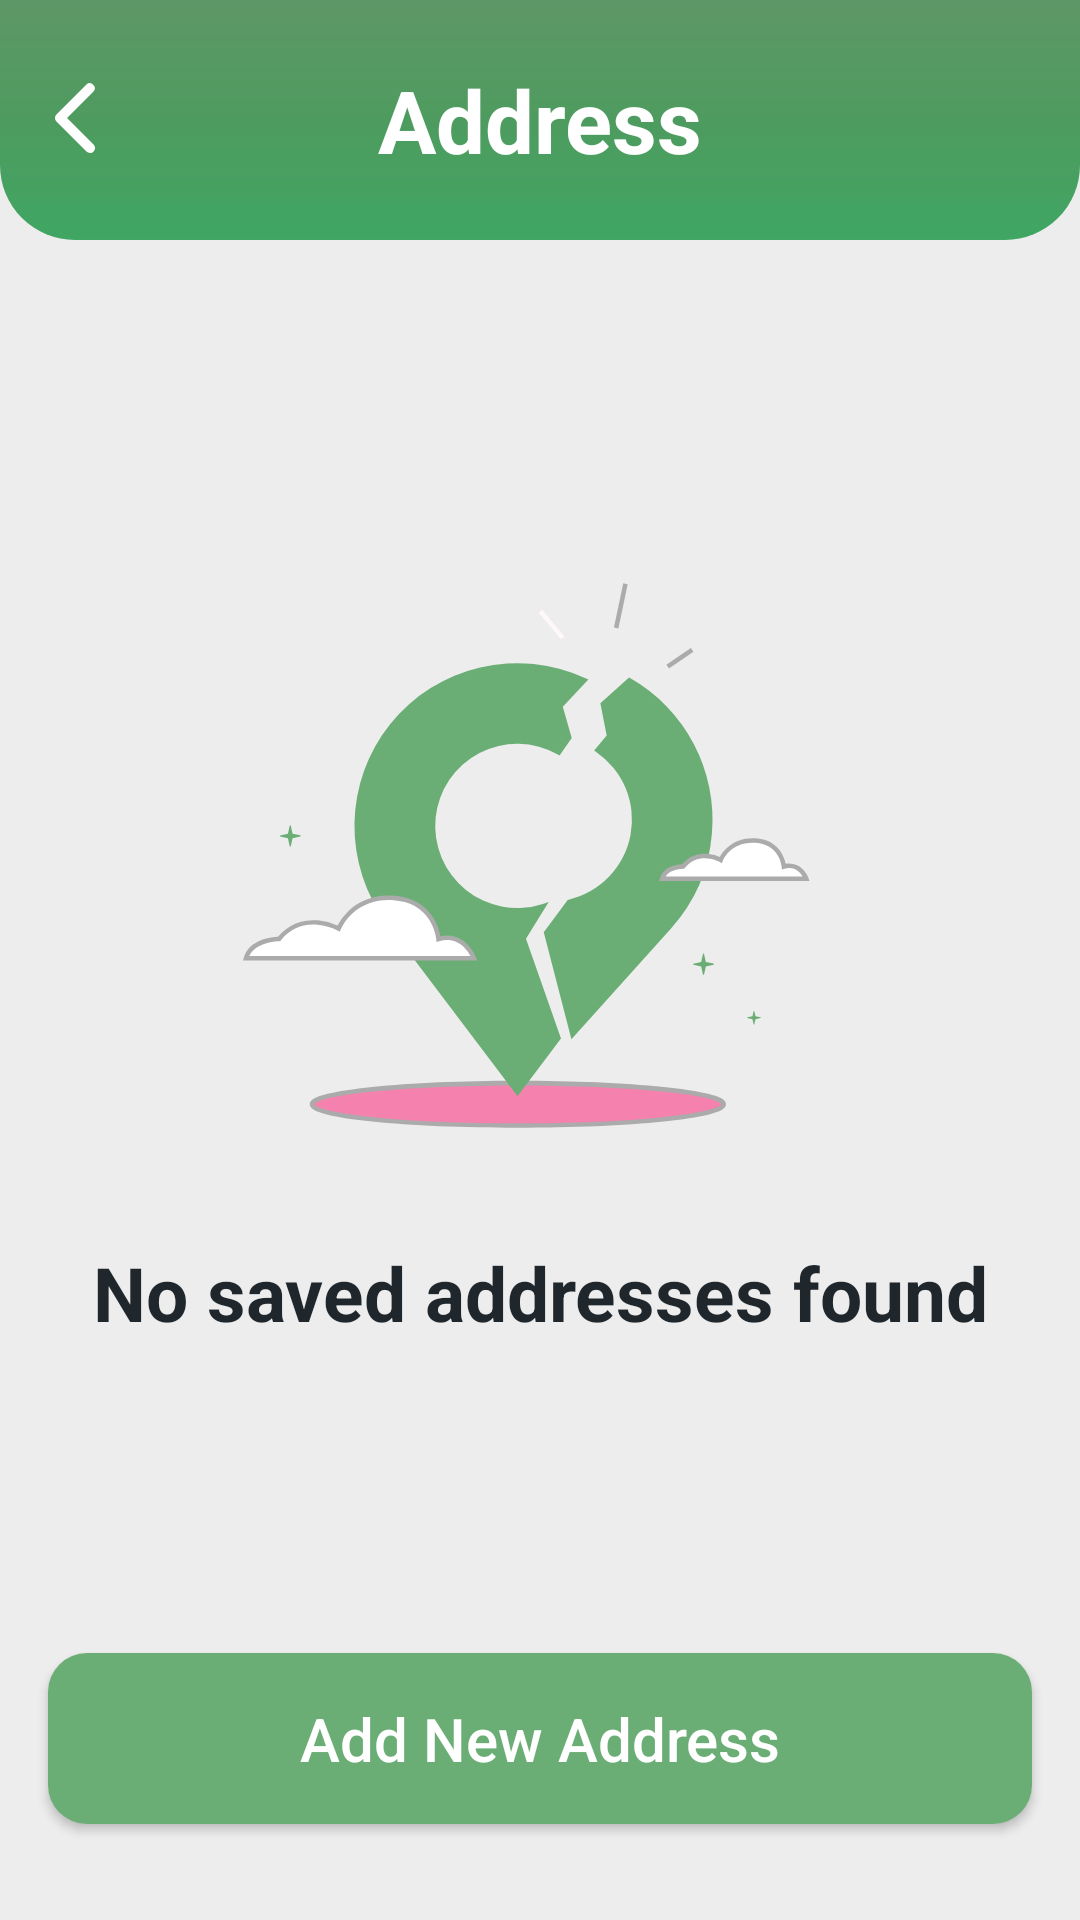

Icon bounding boxes for this 1080*1920 phone screenshot, format (left=x1, top=y1, right=x2, bottom=y2):
back: (left=55, top=83, right=95, bottom=153)
